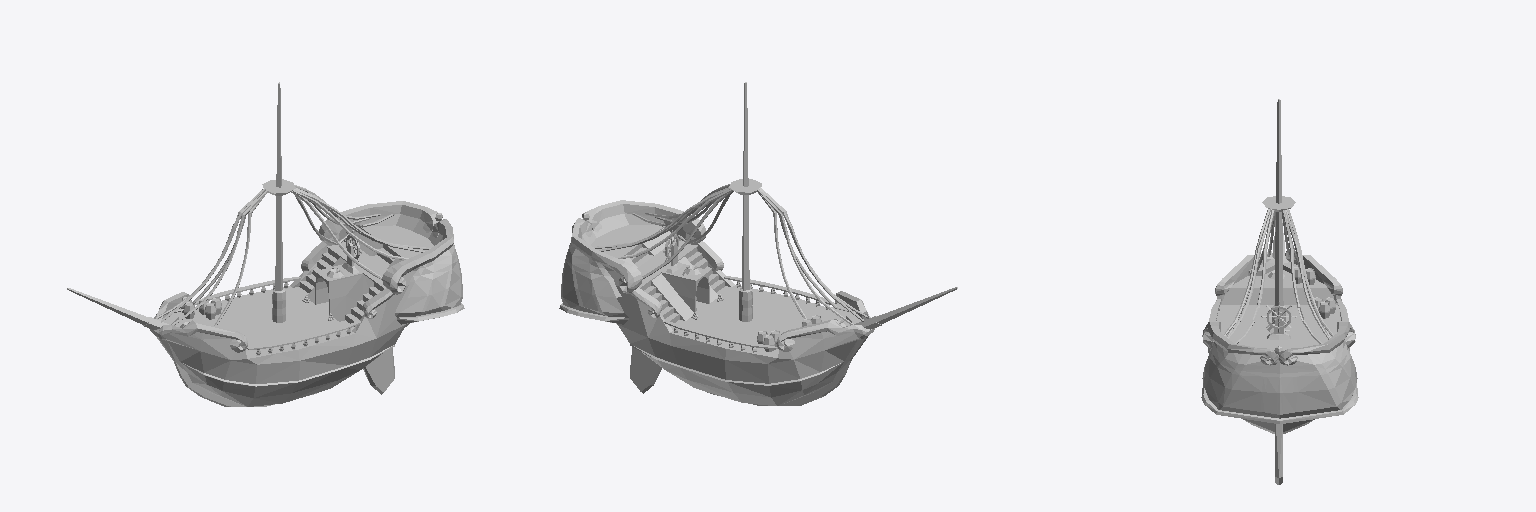
File: pirate ship.obj
The picture shows the model from 3 angles: view 1: azimuth 30°, elevation 25°; view 2: azimuth 150°, elevation 25°; view 3: azimuth 270°, elevation 25°; orthographic projection.
Parts seen in each view (by area): view 1: body, objects, ropes; view 2: body, objects, ropes; view 3: body, objects, ropes.
Boxes of the visible parts, box(x1,y1,x2,y2) form: body: box(67, 214, 464, 406); objects: box(150, 82, 453, 355); ropes: box(157, 185, 430, 325); body: box(559, 213, 957, 405); objects: box(571, 82, 874, 352); ropes: box(594, 184, 867, 324); body: box(1201, 219, 1358, 484); objects: box(1202, 99, 1355, 365); ropes: box(1224, 209, 1333, 343).
Size of the model in its own units: 28.43 by 24.2 by 10.22.